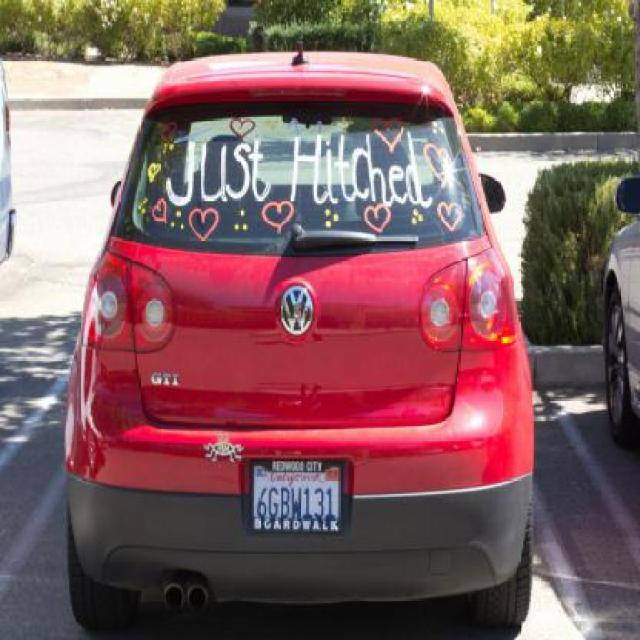License-Plates: (254, 461, 339, 531)
